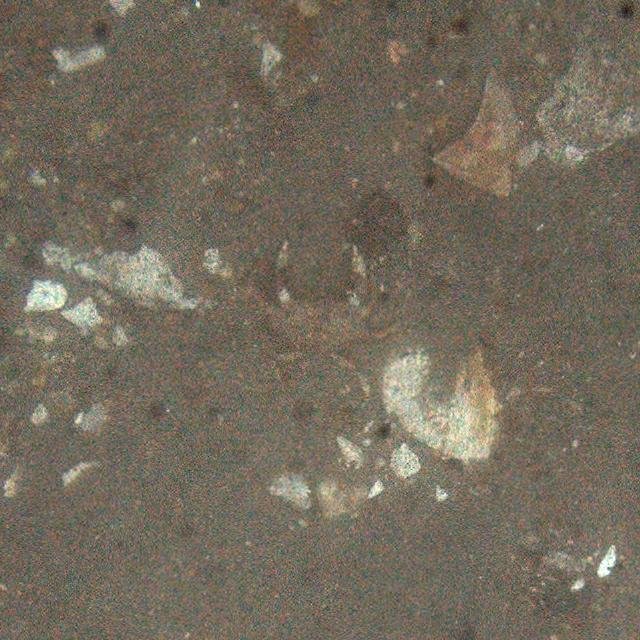crab: (236, 234, 397, 394)
